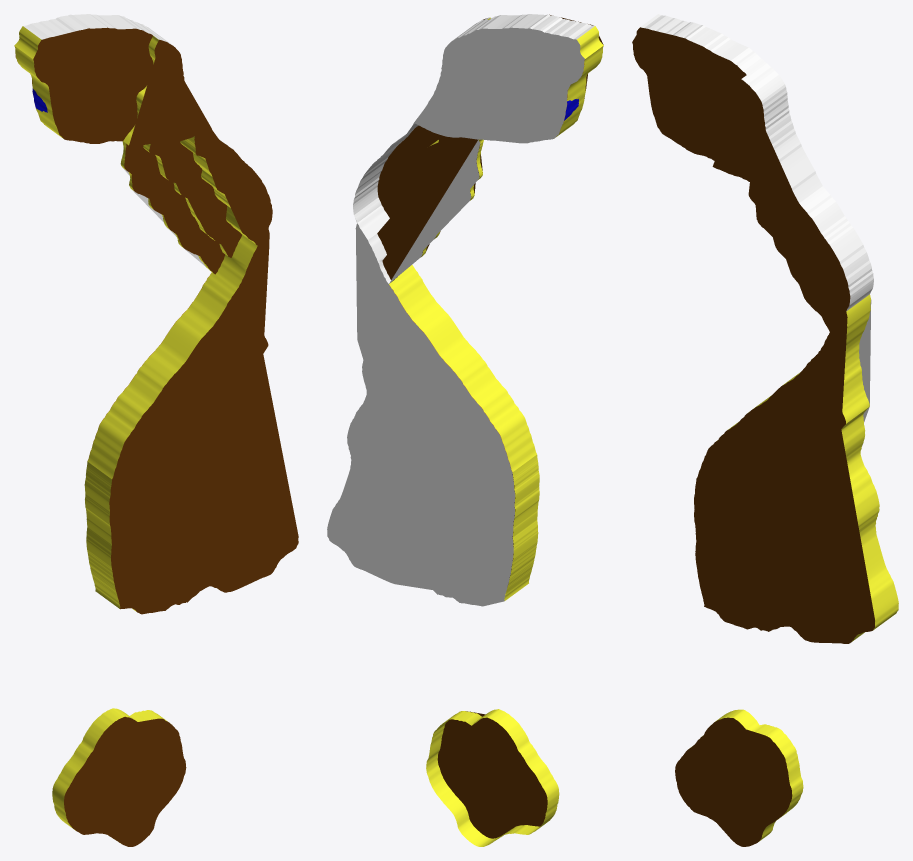
File: mountains_non_triangulated.fbx
3 renders of one model, left to right at view 1: azimuth 30°, elevation 25°; view 2: azimuth 150°, elevation 25°; view 3: azimuth 330°, elevation 25°, orthographic. The views are drawn at different scales.
Visible parts, largest first — view 1: Model; view 2: Model; view 3: Model.
Boxes of the visible parts, bbox=[...] form: Model: bbox=[14, 14, 298, 846]; Model: bbox=[327, 14, 603, 846]; Model: bbox=[632, 14, 898, 846].
Bounding box in the file's own units: 1.27 × 3.92 × 0.21.
